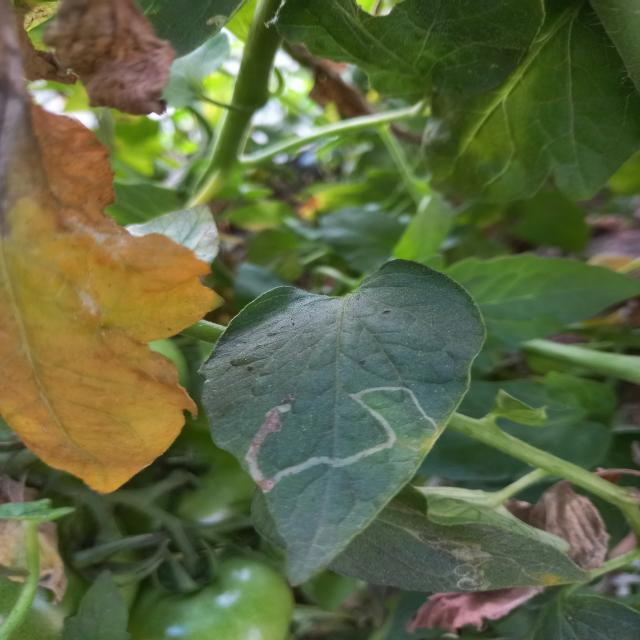Tuta absoluta: (234, 367, 437, 502)
